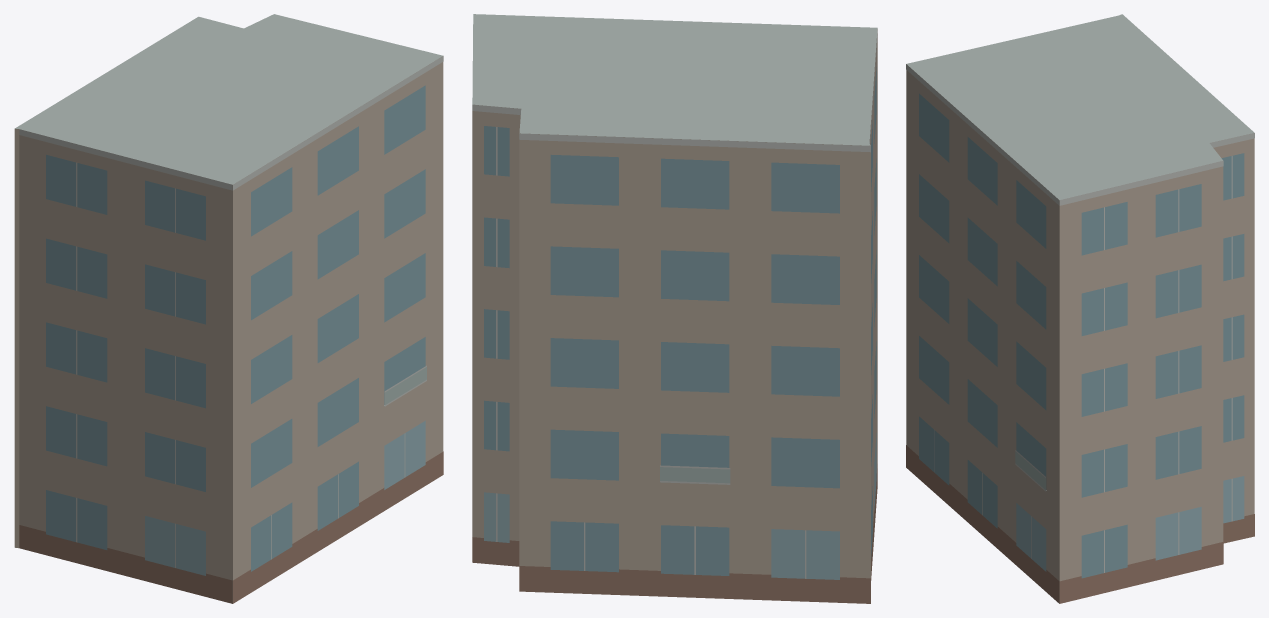
The model's file is survey-upis-32834318.glb.
The picture shows the model from 3 angles, left to right: view 1: azimuth 30°, elevation 25°; view 2: azimuth 150°, elevation 25°; view 3: azimuth 270°, elevation 25°; orthographic projection. The views are drawn at different scales.
Visible parts, largest first — view 1: survey-upis-32834318.tmp; view 2: survey-upis-32834318.tmp; view 3: survey-upis-32834318.tmp.
Boxes of the visible parts, <box> form: survey-upis-32834318.tmp: <box>14,14,443,603</box>; survey-upis-32834318.tmp: <box>472,14,877,603</box>; survey-upis-32834318.tmp: <box>906,14,1254,603</box>.
Size of the model in its own units: 17.28 by 17.45 by 13.67.
